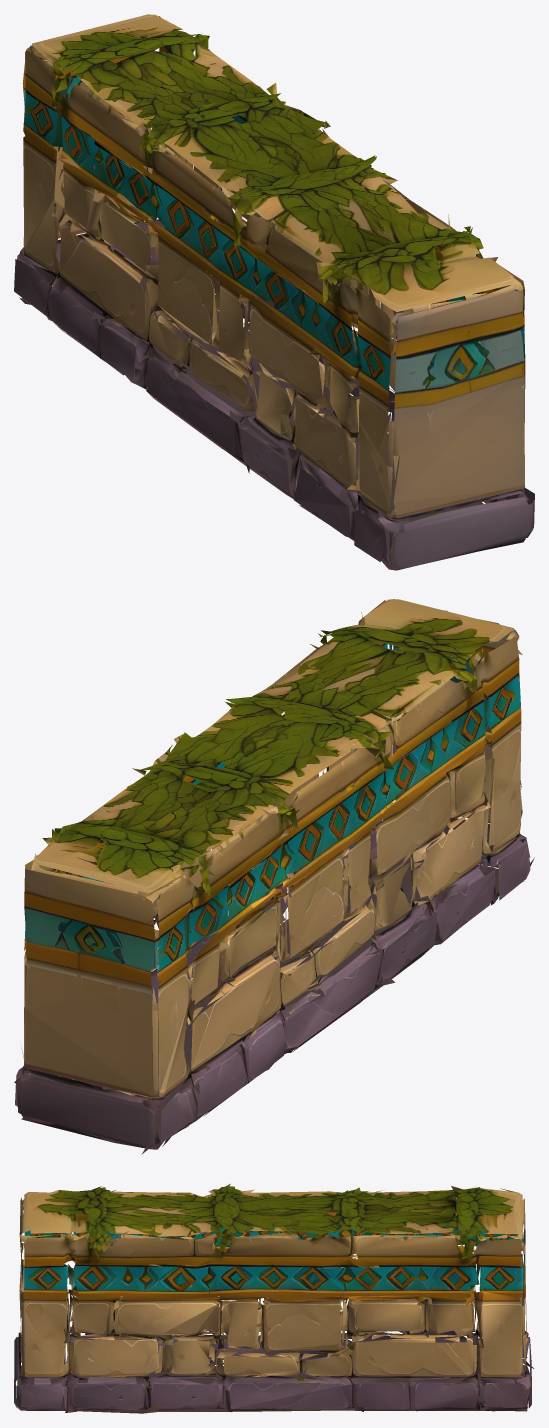
File: 12-garden-straight-wall.glb
The picture shows the model from 3 angles, top to bottom: view 1: azimuth 30°, elevation 25°; view 2: azimuth 150°, elevation 25°; view 3: azimuth 270°, elevation 25°; orthographic projection. The views are drawn at different scales.
Parts seen in each view (by area): view 1: tripo_node_e25fa84f; view 2: tripo_node_e25fa84f; view 3: tripo_node_e25fa84f.
Part boxes in pixels (x1,y1,x2,y2): tripo_node_e25fa84f: (14, 14, 534, 570); tripo_node_e25fa84f: (14, 599, 534, 1153); tripo_node_e25fa84f: (14, 1183, 533, 1413).
Bounding box in the file's own units: 0.2527 × 0.4018 × 1.03.
Materials: 1 (1 with a texture image).
